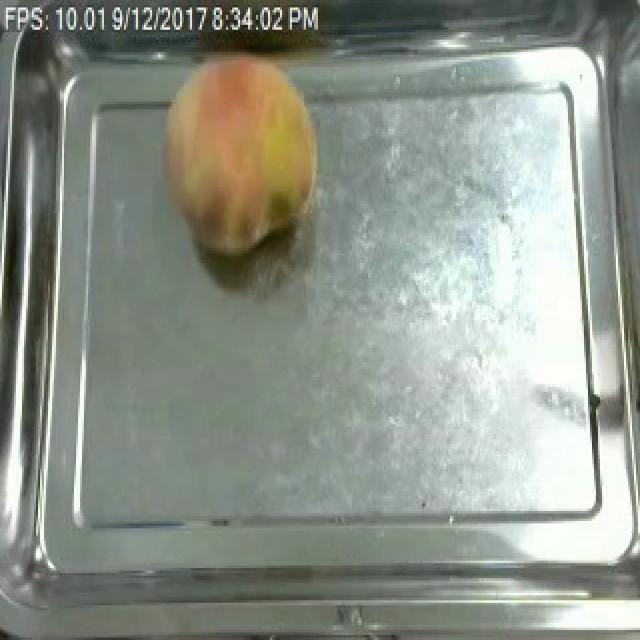Fruit: (150, 47, 330, 268)
